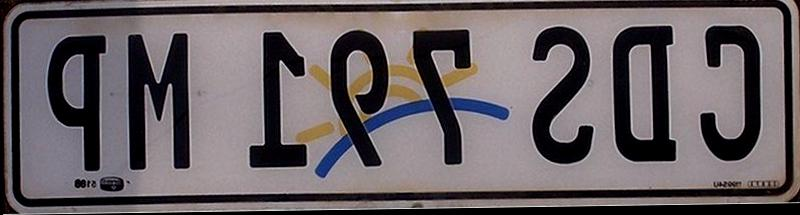License_Plate: (16, 0, 793, 203)
